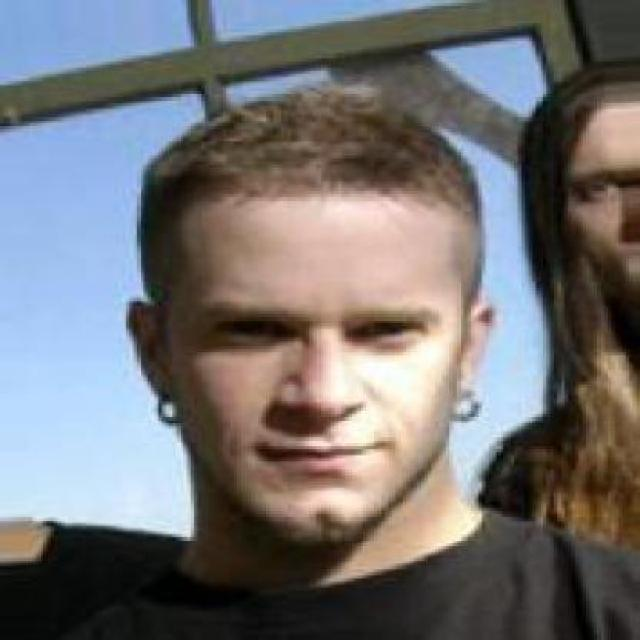closed-mouth: (260, 432, 382, 476)
